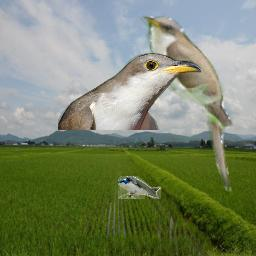Cuckoo: (137, 11, 235, 194), (58, 53, 201, 130)
Swallow: (118, 176, 161, 199)
